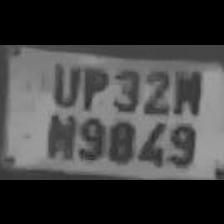2: (140, 64, 170, 112)
3: (110, 63, 140, 111)
4: (135, 116, 165, 166)
8: (104, 114, 134, 164)
9: (164, 118, 198, 168), (75, 111, 103, 161)
M: (43, 109, 74, 159)
N: (170, 64, 202, 114)
P: (78, 63, 108, 111)
U: (46, 57, 78, 107)
